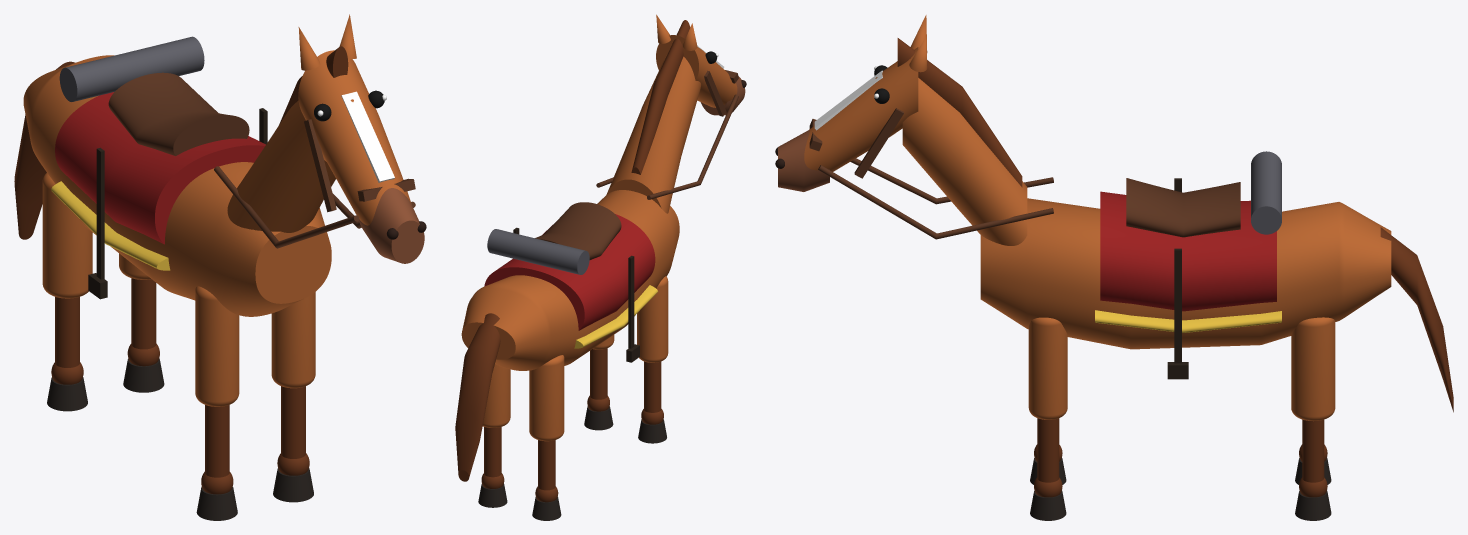
The model's file is horse_chestnut.glb.
3 views of the same model, side by side, from view 1: azimuth 30°, elevation 25°; view 2: azimuth 150°, elevation 25°; view 3: azimuth 270°, elevation 25° (orthographic). The views are drawn at different scales.
Visible parts, largest first — view 1: Body, Cloth, Head, Neck, Saddle, Cloak, Upper_FL, Upper_HL, Upper_FR, Muzzle, Tail, ClothTrim (+18 smaller); view 2: Body, Cloth, Neck, Tail, Saddle, Upper_HL, Cloak, Mane, Upper_FL, Head, Upper_HR, ClothTrim (+12 smaller); view 3: Body, Cloth, Neck, Head, Saddle, Upper_HR, Upper_FR, Tail, Mane, Cloak, ClothTrim, Muzzle (+8 smaller).
Boxes of the visible parts, x1,y1,x2,y2 form: Body: (23,55,331,316); Cloth: (55,92,265,244); Head: (298,50,411,225); Neck: (227,100,335,232); Saddle: (108,72,249,155); Cloak: (59,36,204,101); Upper_FL: (195,286,239,406); Upper_HL: (42,173,92,298); Upper_FR: (271,292,315,388); Muzzle: (359,188,424,263); Tail: (14,61,74,239); ClothTrim: (51,181,170,270); Body: (461,190,679,370); Cloth: (484,214,655,330); Neck: (606,56,700,213); Tail: (455,313,500,481); Saddle: (535,202,621,259); Upper_HL: (529,355,564,441); Cloak: (487,229,589,274); Mane: (631,20,690,174); Upper_FL: (637,276,668,362); Head: (656,35,737,107); Upper_HR: (482,364,510,427); ClothTrim: (574,285,657,348); Body: (980,198,1391,349); Cloth: (1100,191,1276,311); Neck: (902,78,1027,245); Head: (804,47,918,171); Saddle: (1126,178,1240,237); Upper_HR: (1291,317,1335,421); Upper_FR: (1028,317,1067,419); Tail: (1380,227,1453,412); Mane: (897,38,1022,187); Cloak: (1251,151,1281,234); ClothTrim: (1095,310,1281,332); Muzzle: (778,130,829,191).
Bounding box in the file's own units: 0.69 × 2 × 2.61.
